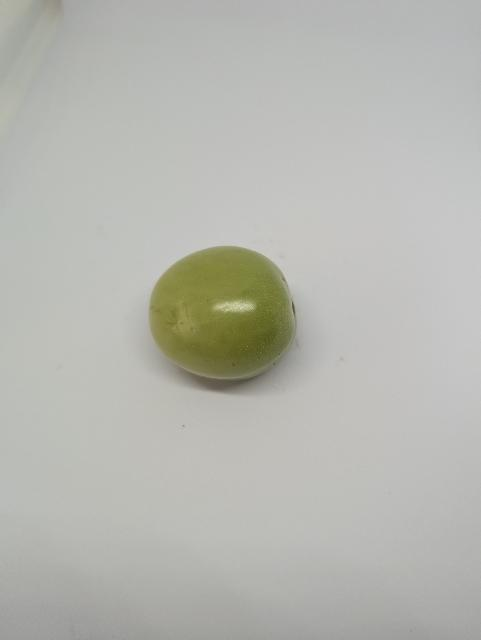green: (132, 238, 315, 394)
